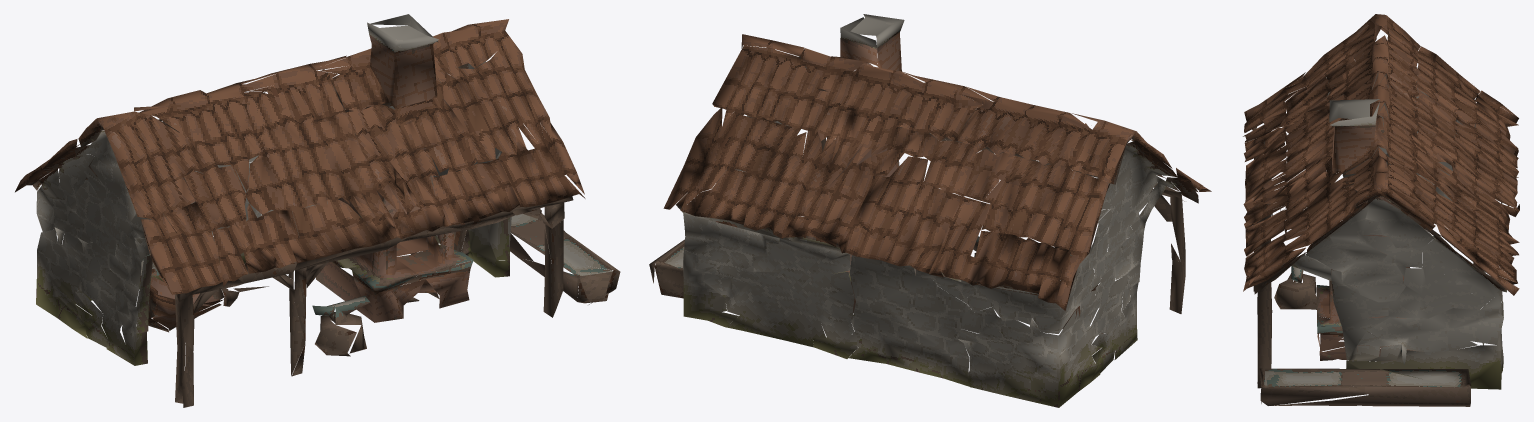
Rendered from fragua.glb.
3 renders of one model, left to right at view 1: azimuth 30°, elevation 25°; view 2: azimuth 150°, elevation 25°; view 3: azimuth 270°, elevation 25°, orthographic. The views are drawn at different scales.
Parts seen in each view (by area): view 1: tripo_node_b98b88b8-f398-4585-9bc4-0b10b050fd18; view 2: tripo_node_b98b88b8-f398-4585-9bc4-0b10b050fd18; view 3: tripo_node_b98b88b8-f398-4585-9bc4-0b10b050fd18.
Part boxes in pixels (left/top/right/bottom): tripo_node_b98b88b8-f398-4585-9bc4-0b10b050fd18: left=15, top=14, right=620, bottom=407; tripo_node_b98b88b8-f398-4585-9bc4-0b10b050fd18: left=649, top=14, right=1211, bottom=407; tripo_node_b98b88b8-f398-4585-9bc4-0b10b050fd18: left=1243, top=14, right=1519, bottom=406.
Size of the model in its own units: 1.77 by 1 by 1.07.
Materials: 1 (1 with a texture image).
